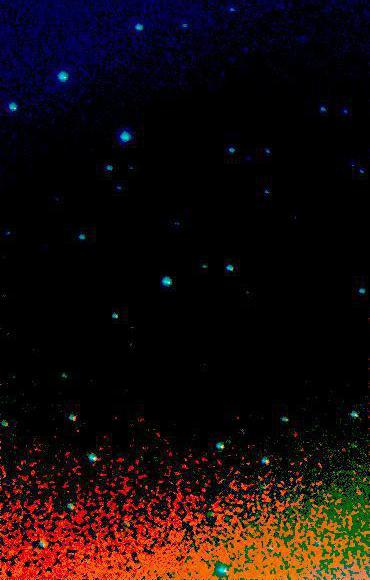star: (342, 481, 370, 511)
